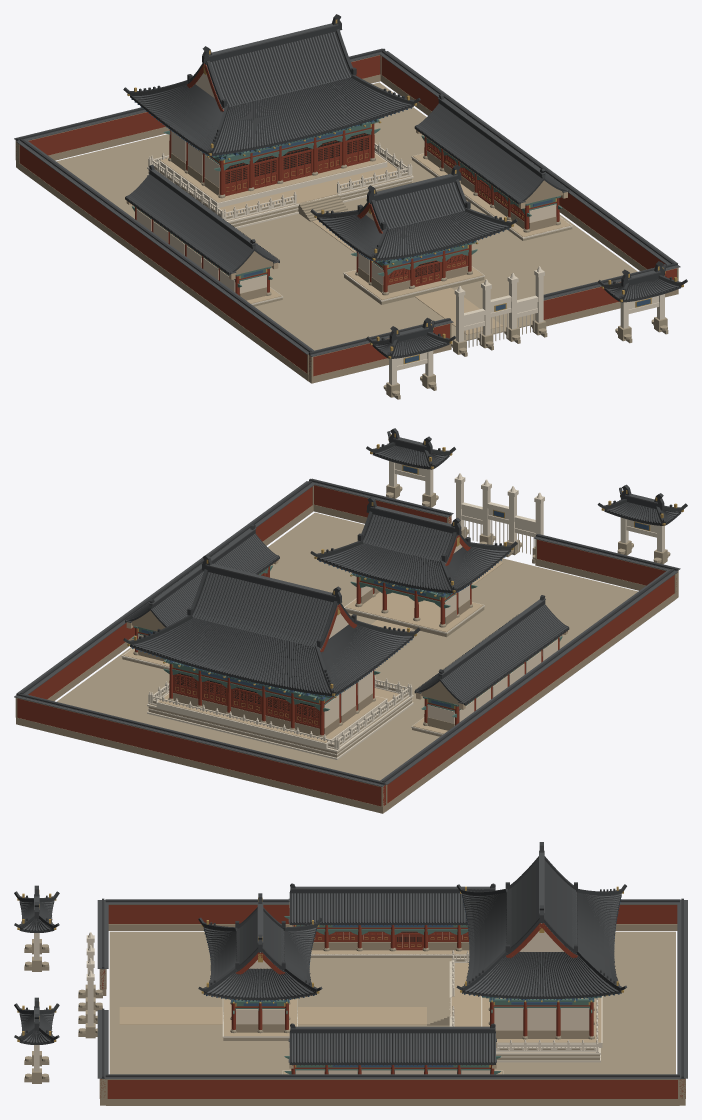
3 views of the same model, one above another, from view 1: azimuth 30°, elevation 25°; view 2: azimuth 150°, elevation 25°; view 3: azimuth 270°, elevation 25° (orthographic).
Visible parts, largest first — view 1: X06; view 2: X06; view 3: X06.
Part boxes in pixels (x1,y1,x2,y2): X06: (14, 14, 687, 399); X06: (14, 428, 687, 813); X06: (14, 842, 687, 1105).
Size of the model in its own units: 51.3 by 19.1 by 81.42.
